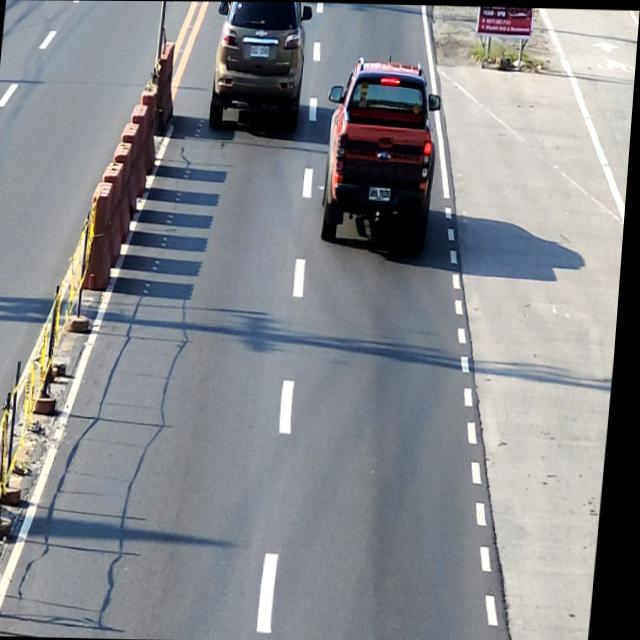Car: (319, 55, 446, 253), (208, 1, 314, 138)
License-Plate: (371, 186, 394, 201), (250, 44, 269, 58)
